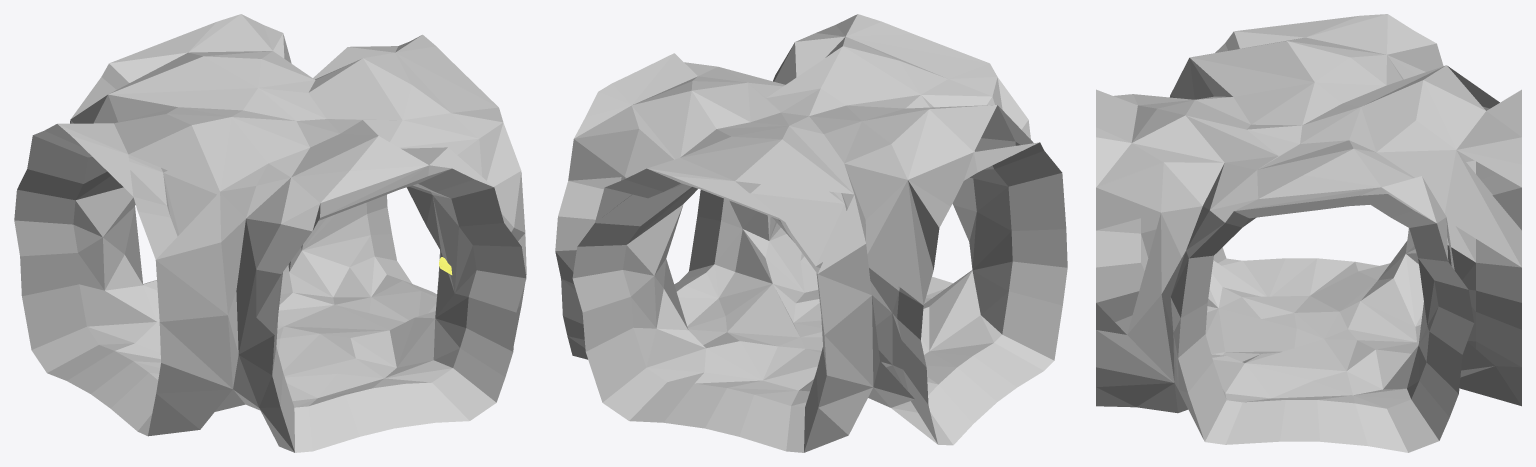
File: TunnelCross1.gltf
The picture shows the model from 3 angles, left to right: view 1: azimuth 30°, elevation 25°; view 2: azimuth 150°, elevation 25°; view 3: azimuth 270°, elevation 25°; orthographic projection.
Parts seen in each view (by area): view 1: TunnelCross1; view 2: TunnelCross1; view 3: TunnelCross1.
Boxes of the visible parts, bbox=[...] form: TunnelCross1: bbox=[14, 14, 526, 452]; TunnelCross1: bbox=[555, 14, 1067, 452]; TunnelCross1: bbox=[1096, 14, 1521, 452].
Size of the model in its own units: 6.35 by 4.67 by 6.35.
